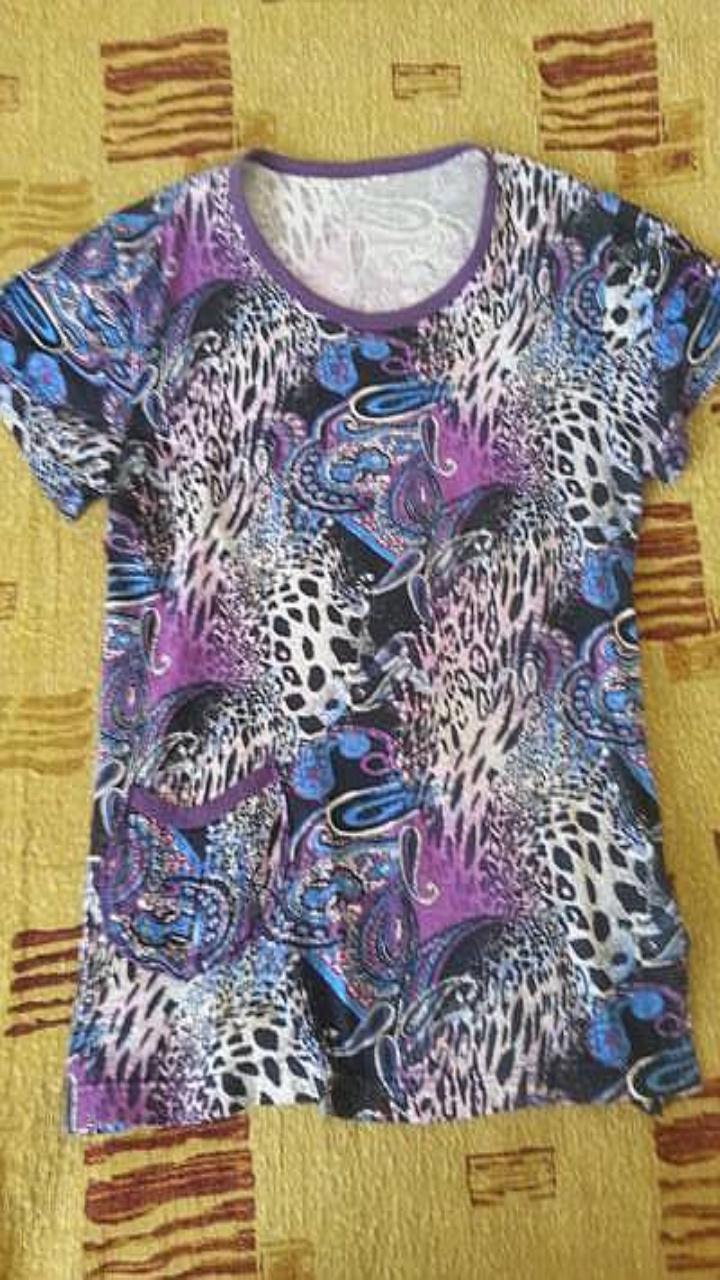T-Shirt: (0, 141, 719, 1132)
